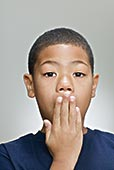face: (35, 36, 91, 126)
